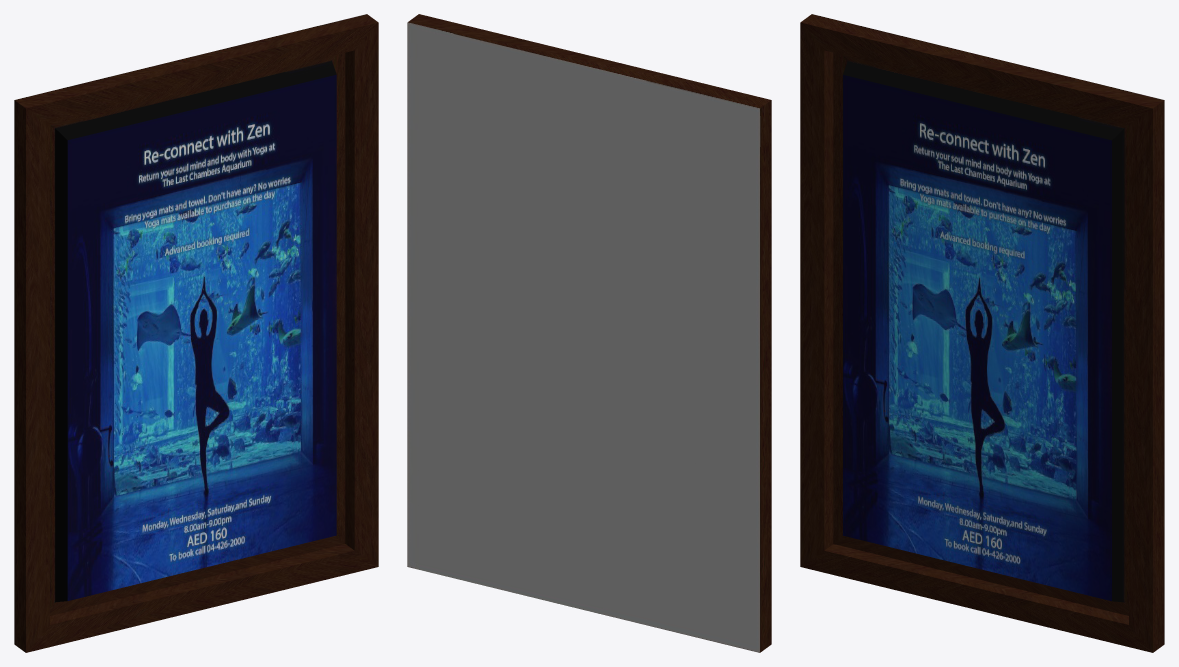
File: DisplayEast02.fbx
3 views of the same model, side by side, from view 1: azimuth 30°, elevation 25°; view 2: azimuth 150°, elevation 25°; view 3: azimuth 330°, elevation 25° (orthographic).
Visible parts, largest first — view 1: Cube; view 2: Cube; view 3: Cube.
Part boxes in pixels (x1,y1,x2,y2): Cube: (14,14,378,652); Cube: (407,14,771,652); Cube: (800,14,1164,652).
Size of the model in its own units: 87.65 by 129 by 5.
